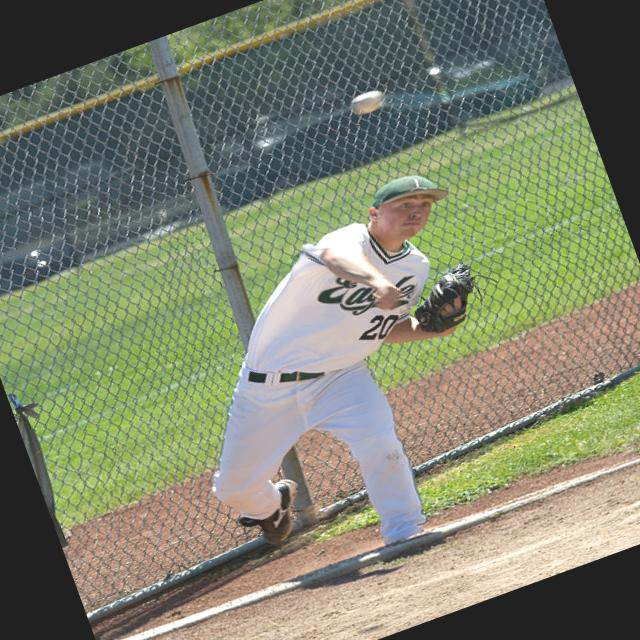Vehicle: (214, 42, 548, 206), (0, 215, 83, 304)
